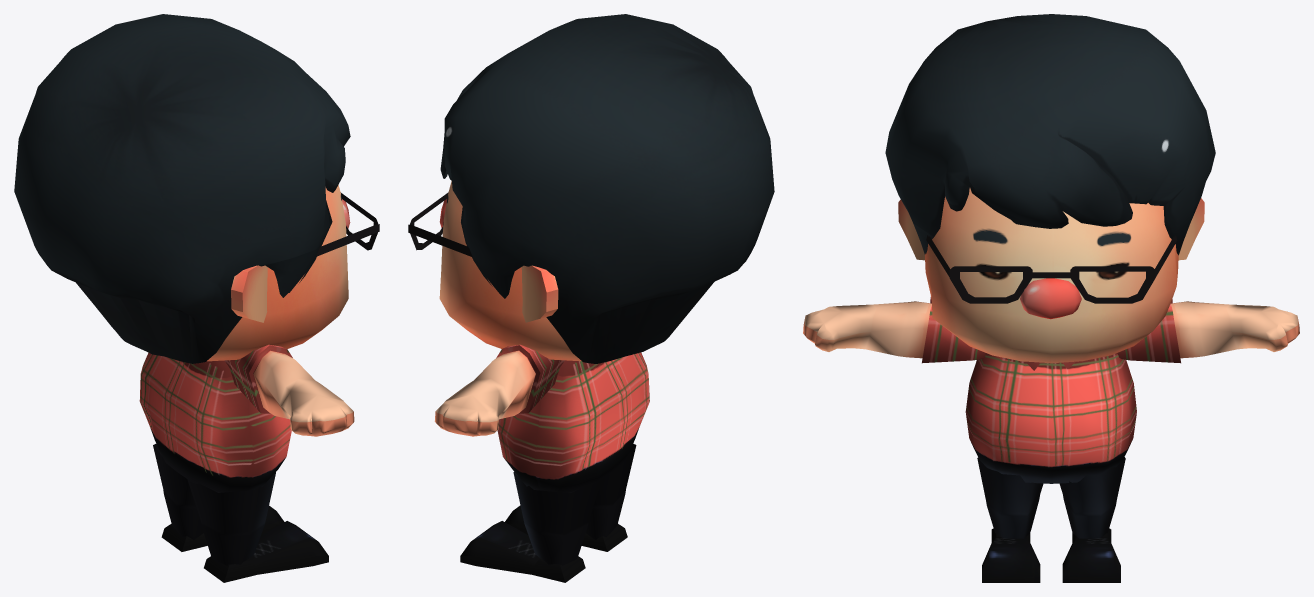
Rendered from Char_Sci_Tech_07.fbx.
3 renders of one model, left to right at view 1: azimuth 30°, elevation 25°; view 2: azimuth 150°, elevation 25°; view 3: azimuth 270°, elevation 25°, orthographic. The views are drawn at different scales.
Visible parts, largest first — view 1: Hair_Hacker, Body_Hacker, R_Leg_Hacker, Head_Hacker, L_Arm_Hacker, L_Leg_Hacker, R_Ear_Hacker, Spectacle_Hacker; view 2: Hair_Hacker, Body_Hacker, L_Leg_Hacker, Head_Hacker, R_Arm_Hacker, R_Leg_Hacker, L_Ear_Hacker, Spectacle_Hacker; view 3: Hair_Hacker, Head_Hacker, Body_Hacker, R_Arm_Hacker, L_Arm_Hacker, L_Leg_Hacker, R_Leg_Hacker, Spectacle_Hacker, Nose_Hacker, R_Ear_Hacker, L_Ear_Hacker.
Part boxes in pixels (bbox=[...]): Hair_Hacker: bbox=[14, 14, 350, 363]; Body_Hacker: bbox=[139, 352, 291, 492]; R_Leg_Hacker: bbox=[187, 472, 328, 582]; Head_Hacker: bbox=[207, 185, 348, 361]; L_Arm_Hacker: bbox=[224, 344, 354, 436]; L_Leg_Hacker: bbox=[153, 443, 284, 551]; R_Ear_Hacker: bbox=[231, 265, 267, 322]; Spectacle_Hacker: bbox=[316, 192, 379, 256]; Hair_Hacker: bbox=[440, 14, 774, 363]; Body_Hacker: bbox=[497, 352, 649, 492]; L_Leg_Hacker: bbox=[460, 472, 601, 582]; Head_Hacker: bbox=[439, 181, 581, 361]; R_Arm_Hacker: bbox=[434, 344, 564, 436]; R_Leg_Hacker: bbox=[505, 443, 636, 551]; L_Ear_Hacker: bbox=[521, 265, 558, 322]; Spectacle_Hacker: bbox=[408, 192, 472, 257]; Hair_Hacker: bbox=[885, 14, 1215, 255]; Head_Hacker: bbox=[925, 188, 1178, 363]; Body_Hacker: bbox=[965, 353, 1136, 483]; R_Arm_Hacker: bbox=[1117, 299, 1299, 363]; L_Arm_Hacker: bbox=[803, 297, 986, 363]; L_Leg_Hacker: bbox=[1059, 457, 1125, 582]; R_Leg_Hacker: bbox=[977, 457, 1043, 582]; Spectacle_Hacker: bbox=[926, 235, 1177, 303]; Nose_Hacker: bbox=[1020, 278, 1081, 319]; R_Ear_Hacker: bbox=[898, 199, 924, 260]; L_Ear_Hacker: bbox=[1178, 198, 1204, 260].
Bounding box in the file's own units: 5.09 × 8.08 × 7.3.
2 materials, 2 textured.
